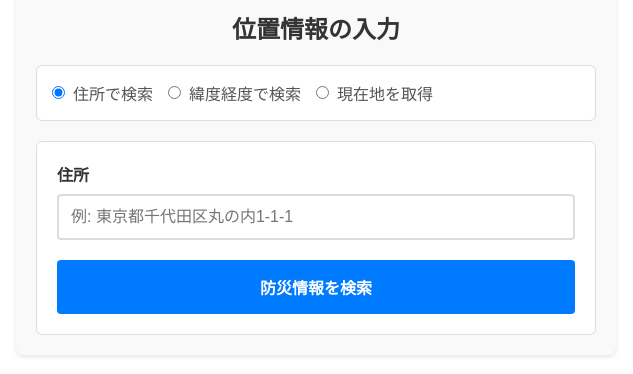
Scenario: LocationInputComponent › 入力方式の切り替え › 現在地取得に切り替えできる
What coordinates should you click on to do the following:
click the radio button labelled "現在地を取得"
I would click on:
 (322, 93)
Its box is x1=316 y1=86 x2=329 y2=99.
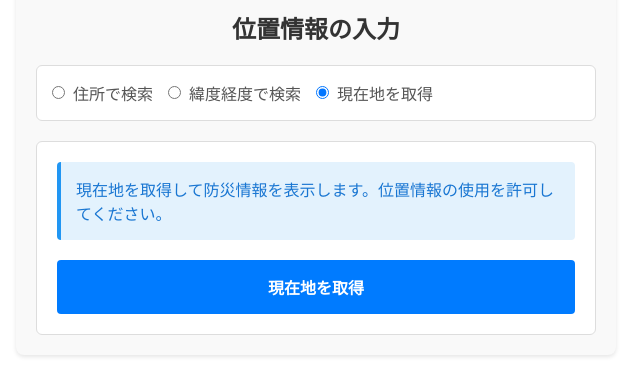
Now the radio button labelled "現在地を取得" is checked, box x1=316 y1=86 x2=329 y2=99
Now the text "現在地を取得して防災情報を表示します。位置情報の使用を許可してください。" is shown, box x1=57 y1=162 x2=575 y2=240
Now the button "現在地を取得" is shown, box x1=57 y1=260 x2=575 y2=314
